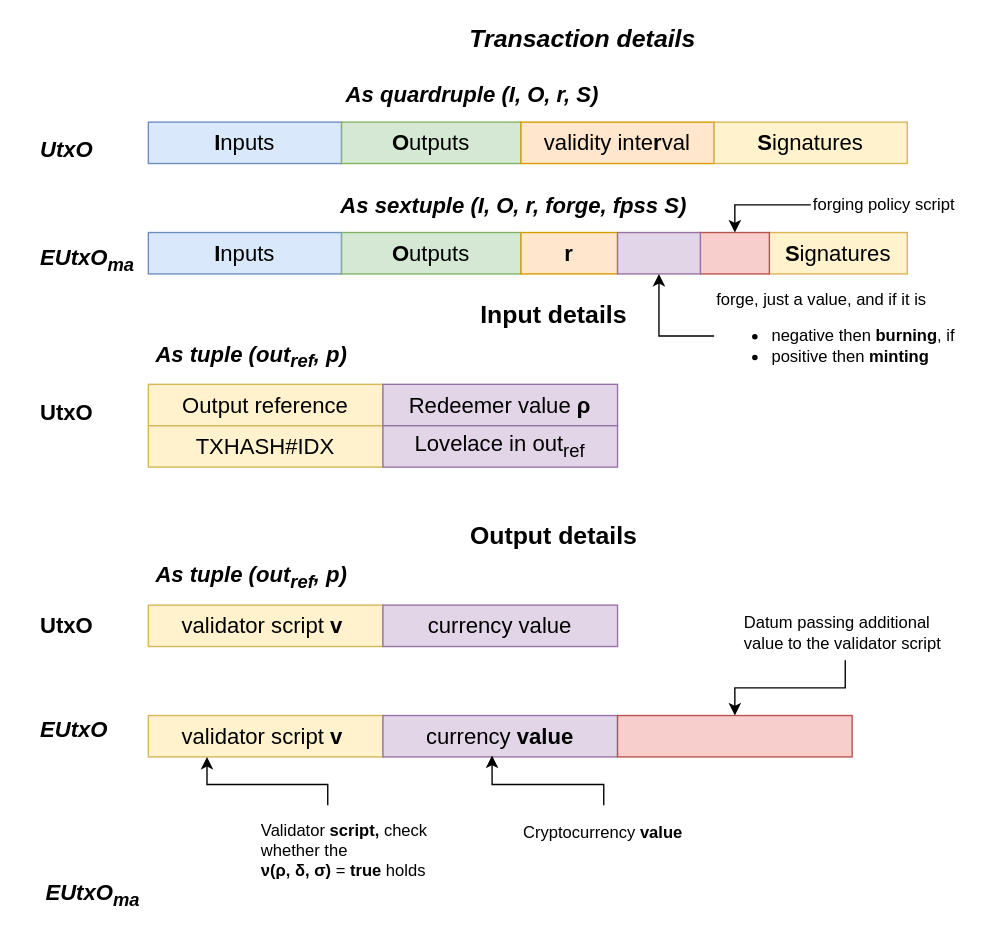
Some shapes in this 999 by 934 pixel diagram are drawn without their labels. The box of each missing label's shape, as (x1, y1, x2, y2) in pixels:
datum δ: (616, 714, 852, 757)
forge: (616, 231, 700, 274)
fpss: (699, 231, 769, 274)
